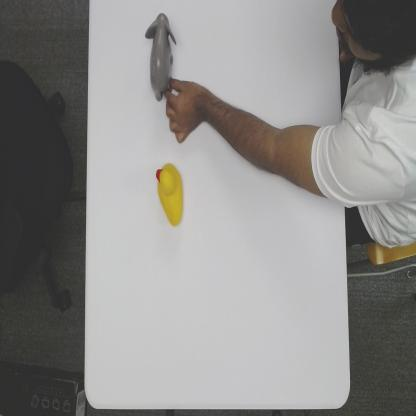Arm: (205, 87, 341, 200)
Duck: (155, 162, 186, 228)
Elephant: (144, 11, 177, 104)
Hand: (164, 76, 204, 144)
